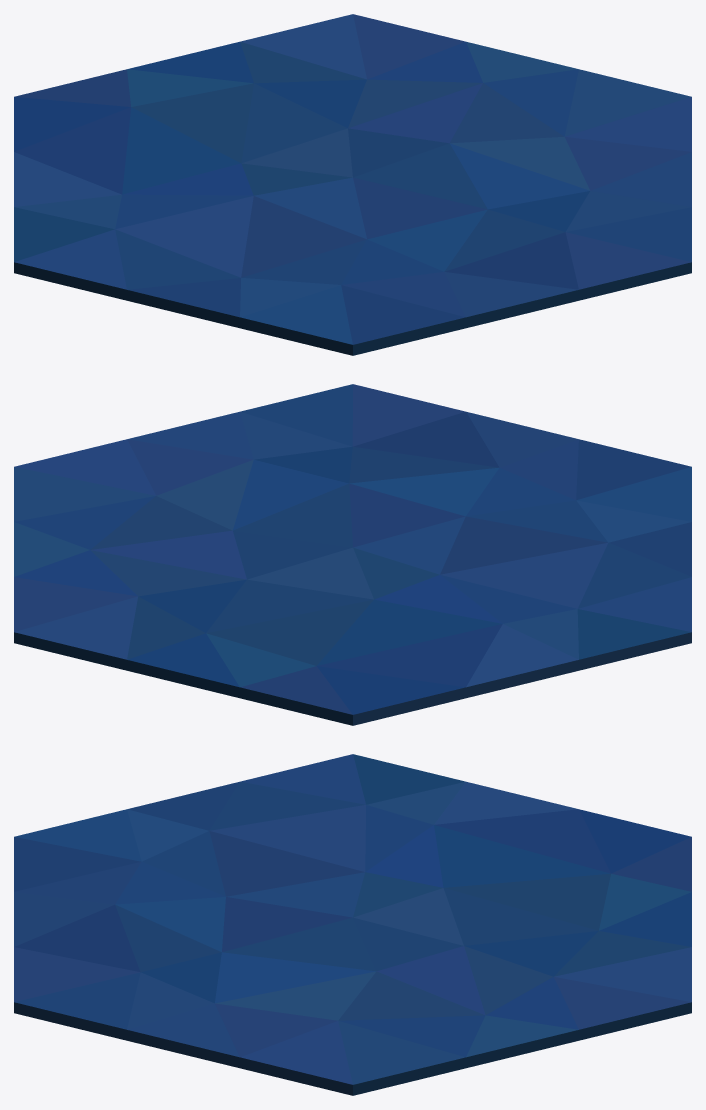
File: Ocean2.glb
The picture shows the model from 3 angles, top to bottom: view 1: azimuth 30°, elevation 25°; view 2: azimuth 150°, elevation 25°; view 3: azimuth 270°, elevation 25°; orthographic projection.
Visible parts, largest first — view 1: Ocean2; view 2: Ocean2; view 3: Ocean2.
Boxes of the visible parts, x1=… form: Ocean2: x1=14, y1=14, x2=691, y2=355; Ocean2: x1=14, y1=384, x2=691, y2=725; Ocean2: x1=14, y1=754, x2=691, y2=1095.
Bounding box in the file's own units: 1.94 × 0.0353 × 1.68.
